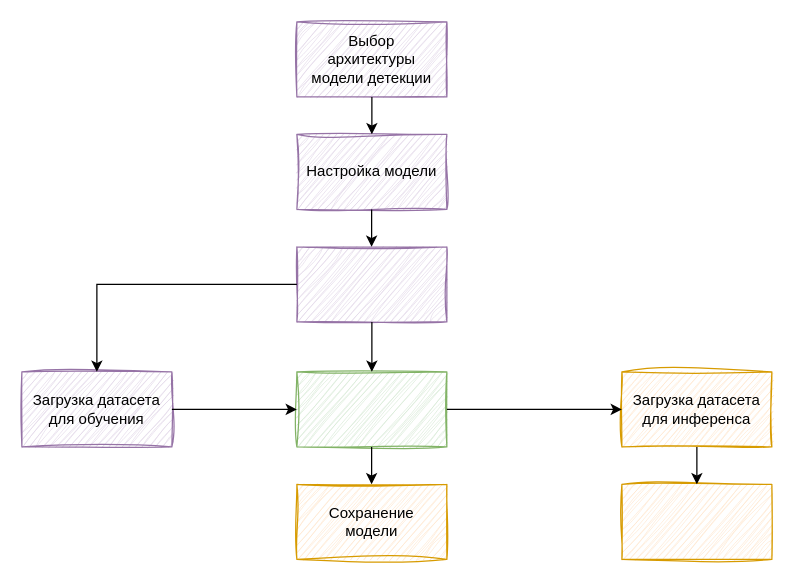
Some shapes in this 794 by 581 pixel diagram are drawn without their labels. The centre of each missing label's shape, as x and y in pixels:
"Инференс" goes at pixel 696 521.
"Настройка режима обучения" goes at pixel 371 284.
"Обучение" goes at pixel 371 409.
